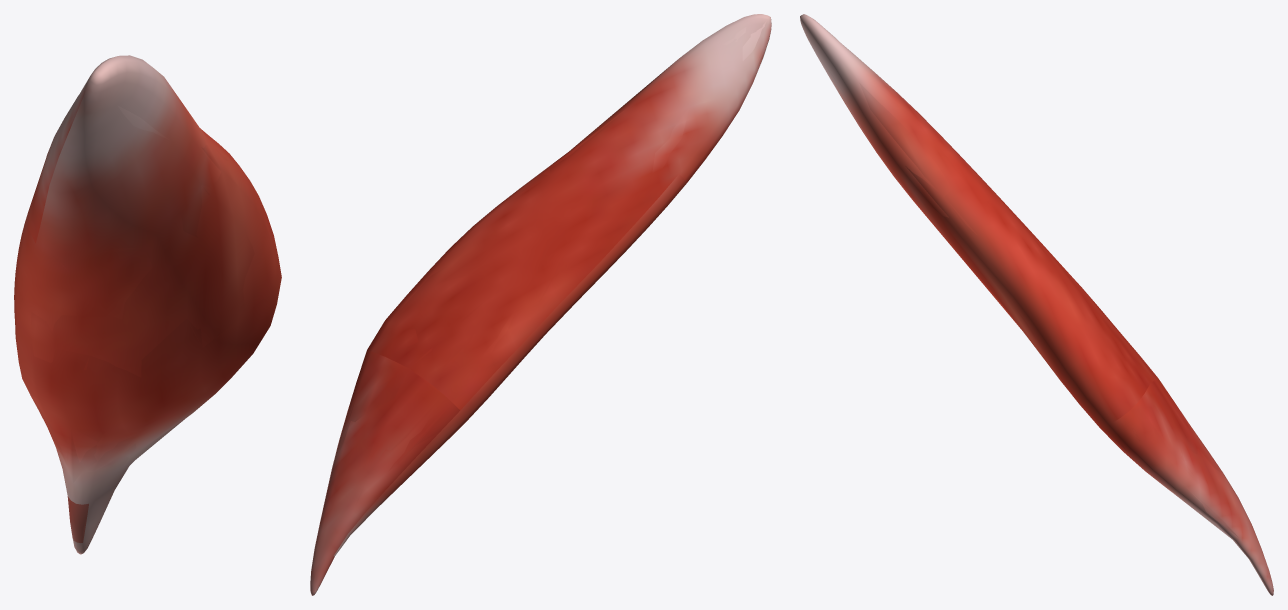
The model's file is R iliacus.fbx.
3 views of the same model, side by side, from view 1: azimuth 30°, elevation 25°; view 2: azimuth 150°, elevation 25°; view 3: azimuth 270°, elevation 25° (orthographic). The views are drawn at different scales.
Parts seen in each view (by area): view 1: R iliacus, R iliacus low; view 2: R iliacus, R iliacus low; view 3: R iliacus, R iliacus low.
Part boxes in pixels (x1=…): R iliacus: x1=14, y1=55, x2=281, y2=554; R iliacus low: x1=14, y1=79, x2=279, y2=522; R iliacus: x1=310, y1=14, x2=771, y2=595; R iliacus low: x1=334, y1=20, x2=768, y2=554; R iliacus: x1=800, y1=14, x2=1273, y2=595; R iliacus low: x1=813, y1=47, x2=1244, y2=553.
Size of the model in its own units: 12.55 by 22.42 by 20.38.
